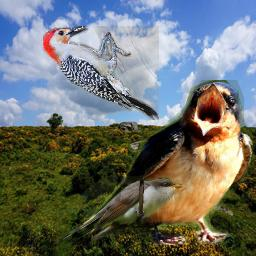Cuckoo: (53, 176, 182, 244)
Swallow: (84, 80, 255, 245)
Woodpecker: (43, 26, 159, 120)
